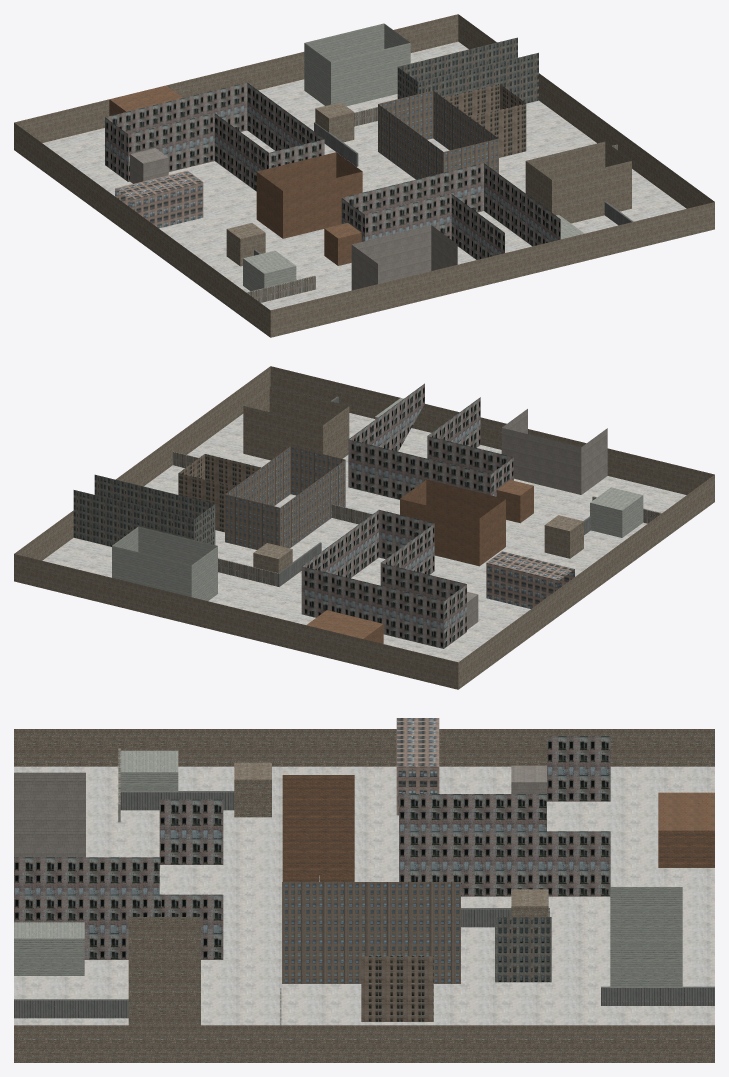
File: city_edit.obj
The picture shows the model from 3 angles, top to bottom: view 1: azimuth 30°, elevation 25°; view 2: azimuth 150°, elevation 25°; view 3: azimuth 270°, elevation 25°; orthographic projection. The views are drawn at different scales.
Parts seen in each view (by area): view 1: mat_brick61a, mat_wall80, mat_snowyasphalt03, mat_brick52a, mat_brick48a, mat_wall59a, mat_wall70, mat_brick65a, mat_wall56a, mat_wall69, mat_wood17a, mat_wood26a; view 2: mat_brick61a, mat_wall80, mat_snowyasphalt03, mat_wall59a, mat_brick52a, mat_brick48a, mat_wall70, mat_brick65a, mat_wall56a, mat_wall69, mat_wood17a, mat_wood26a; view 3: mat_snowyasphalt03, mat_brick61a, mat_wall80, mat_wall59a, mat_brick48a, mat_brick52a, mat_brick65a, mat_wood26a, mat_wall69, mat_wall70, mat_wall56a.
Boxes of the visible parts, bbox=[...] form: mat_brick61a: bbox=[14, 14, 714, 337]; mat_wall80: bbox=[105, 82, 560, 259]; mat_snowyasphalt03: bbox=[42, 41, 686, 310]; mat_brick52a: bbox=[109, 85, 362, 265]; mat_brick48a: bbox=[243, 23, 584, 291]; mat_wall59a: bbox=[378, 90, 498, 179]; mat_wall70: bbox=[397, 37, 538, 103]; mat_brick65a: bbox=[130, 148, 457, 290]; mat_wall56a: bbox=[115, 170, 203, 228]; mat_wall69: bbox=[443, 84, 526, 157]; mat_wood17a: bbox=[246, 107, 617, 302]; mat_wood26a: bbox=[254, 122, 633, 279]; mat_brick61a: bbox=[14, 366, 714, 689]; mat_wall80: bbox=[301, 383, 513, 648]; mat_snowyasphalt03: bbox=[42, 413, 686, 662]; mat_wall59a: bbox=[225, 446, 345, 549]; mat_brick52a: bbox=[306, 479, 533, 643]; mat_brick48a: bbox=[112, 398, 643, 600]; mat_wall70: bbox=[73, 474, 215, 546]; mat_brick65a: bbox=[467, 409, 607, 629]; mat_wall56a: bbox=[486, 551, 574, 608]; mat_wall69: bbox=[178, 454, 260, 532]; mat_wood17a: bbox=[172, 451, 661, 586]; mat_wood26a: bbox=[277, 396, 590, 586]; mat_snowyasphalt03: bbox=[14, 766, 714, 1025]; mat_brick61a: bbox=[14, 729, 714, 1062]; mat_wall80: bbox=[14, 736, 610, 959]; mat_wall59a: bbox=[282, 882, 460, 983]; mat_brick48a: bbox=[14, 750, 682, 987]; mat_brick52a: bbox=[282, 775, 714, 881]; mat_brick65a: bbox=[14, 765, 546, 857]; mat_wood26a: bbox=[14, 791, 714, 1018]; mat_wall69: bbox=[361, 956, 433, 1021]; mat_wall70: bbox=[495, 917, 551, 982]; mat_wall56a: bbox=[396, 718, 439, 815].
Size of the model in its own units: 189 by 19.44 by 189.
Materials: 12 (12 with a texture image).
